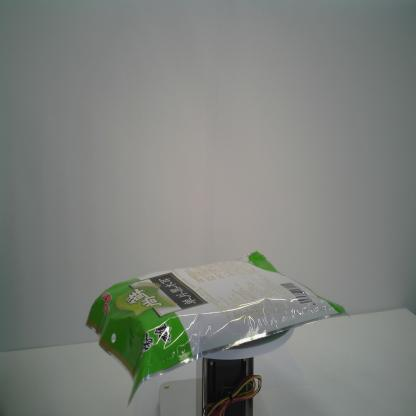Dried Food: (84, 245, 352, 408)
